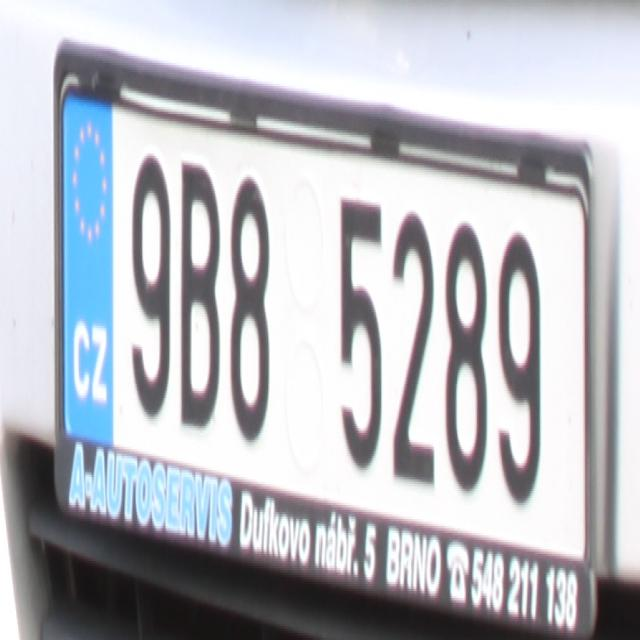2: (392, 205, 436, 498)
5: (341, 198, 383, 468)
8: (446, 217, 489, 484), (230, 175, 270, 435)
9: (499, 233, 541, 507), (130, 154, 169, 416)
B: (180, 161, 220, 442)
